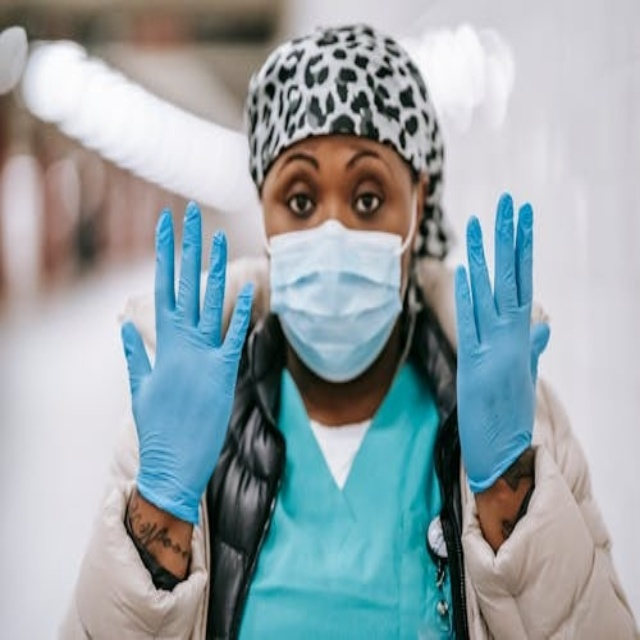Guantes: (122, 202, 255, 525), (453, 193, 550, 495)
Mascara: (266, 199, 414, 381)
Sin_gafas: (261, 152, 413, 231)
